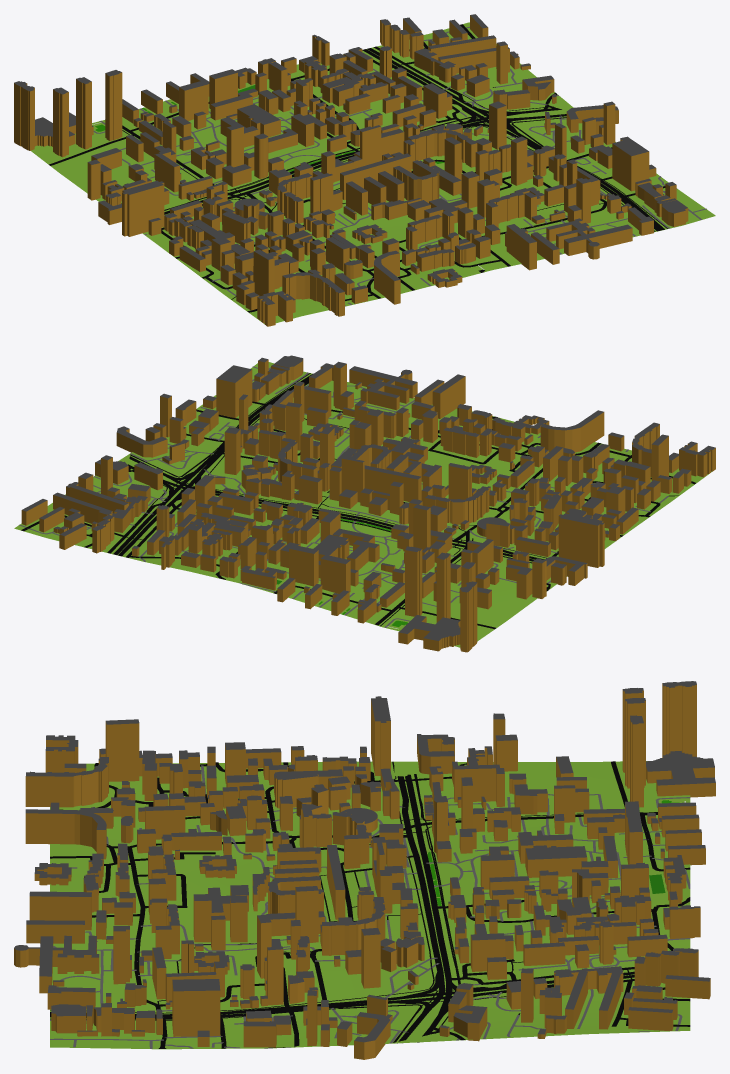
Rendered from tile_07_04.glb.
3 views of the same model, one above another, from view 1: azimuth 30°, elevation 25°; view 2: azimuth 150°, elevation 25°; view 3: azimuth 270°, elevation 25° (orthographic). The views are drawn at different scales.
Visible parts, largest first — view 1: Ub_small.osm_buildings_07_04, Terrain_07_04, Ub_small.osm_roads_service_07_04, Ub_small.osm_roads_residential_07_04, Ub_small.osm_roads_primary_07_04, Ub_small.osm_roads_trunk_07_04, Ub_small.osm_paths_footway_07_04, Ub_small.osm_roads_tertiary_07_04; view 2: Ub_small.osm_buildings_07_04, Terrain_07_04, Ub_small.osm_roads_service_07_04, Ub_small.osm_roads_residential_07_04, Ub_small.osm_roads_primary_07_04, Ub_small.osm_roads_trunk_07_04, Ub_small.osm_paths_footway_07_04, Ub_small.osm_roads_tertiary_07_04; view 3: Ub_small.osm_buildings_07_04, Terrain_07_04, Ub_small.osm_roads_service_07_04, Ub_small.osm_roads_residential_07_04, Ub_small.osm_roads_trunk_07_04, Ub_small.osm_paths_footway_07_04, Ub_small.osm_roads_primary_07_04, Ub_small.osm_roads_tertiary_07_04.
Part boxes in pixels (x1=…): Ub_small.osm_buildings_07_04: x1=14, y1=14, x2=688, y2=326; Terrain_07_04: x1=31, y1=22, x2=715, y2=323; Ub_small.osm_roads_service_07_04: x1=93, y1=26, x2=706, y2=306; Ub_small.osm_roads_residential_07_04: x1=49, y1=24, x2=612, y2=312; Ub_small.osm_roads_primary_07_04: x1=362, y1=48, x2=664, y2=231; Ub_small.osm_roads_trunk_07_04: x1=164, y1=108, x2=566, y2=214; Ub_small.osm_paths_footway_07_04: x1=122, y1=64, x2=667, y2=299; Ub_small.osm_roads_tertiary_07_04: x1=235, y1=46, x2=665, y2=271; Ub_small.osm_buildings_07_04: x1=21, y1=355, x2=715, y2=652; Terrain_07_04: x1=14, y1=362, x2=711, y2=647; Ub_small.osm_roads_service_07_04: x1=19, y1=366, x2=668, y2=627; Ub_small.osm_roads_residential_07_04: x1=21, y1=409, x2=695, y2=629; Ub_small.osm_roads_primary_07_04: x1=113, y1=373, x2=313, y2=556; Ub_small.osm_roads_trunk_07_04: x1=128, y1=456, x2=544, y2=561; Ub_small.osm_paths_footway_07_04: x1=125, y1=373, x2=678, y2=626; Ub_small.osm_roads_tertiary_07_04: x1=107, y1=401, x2=542, y2=557; Ub_small.osm_buildings_07_04: x1=14, y1=681, x2=715, y2=1059; Terrain_07_04: x1=50, y1=761, x2=690, y2=1049; Ub_small.osm_roads_service_07_04: x1=50, y1=765, x2=690, y2=1048; Ub_small.osm_roads_residential_07_04: x1=50, y1=761, x2=690, y2=1048; Ub_small.osm_roads_trunk_07_04: x1=376, y1=774, x2=489, y2=1043; Ub_small.osm_paths_footway_07_04: x1=50, y1=761, x2=657, y2=1042; Ub_small.osm_roads_primary_07_04: x1=50, y1=971, x2=634, y2=1019; Ub_small.osm_roads_tertiary_07_04: x1=92, y1=827, x2=634, y2=1048.
Bounding box in the file's own units: 1063 × 149 × 1020.
